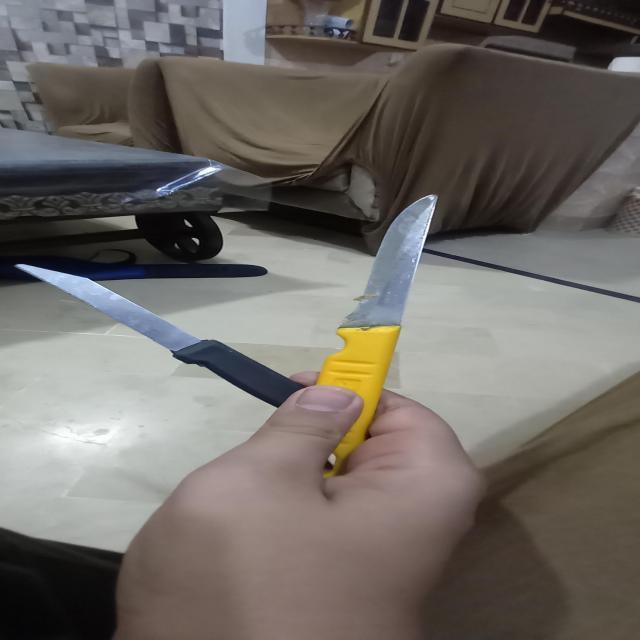faca: (25, 266, 312, 404), (306, 192, 442, 480)
